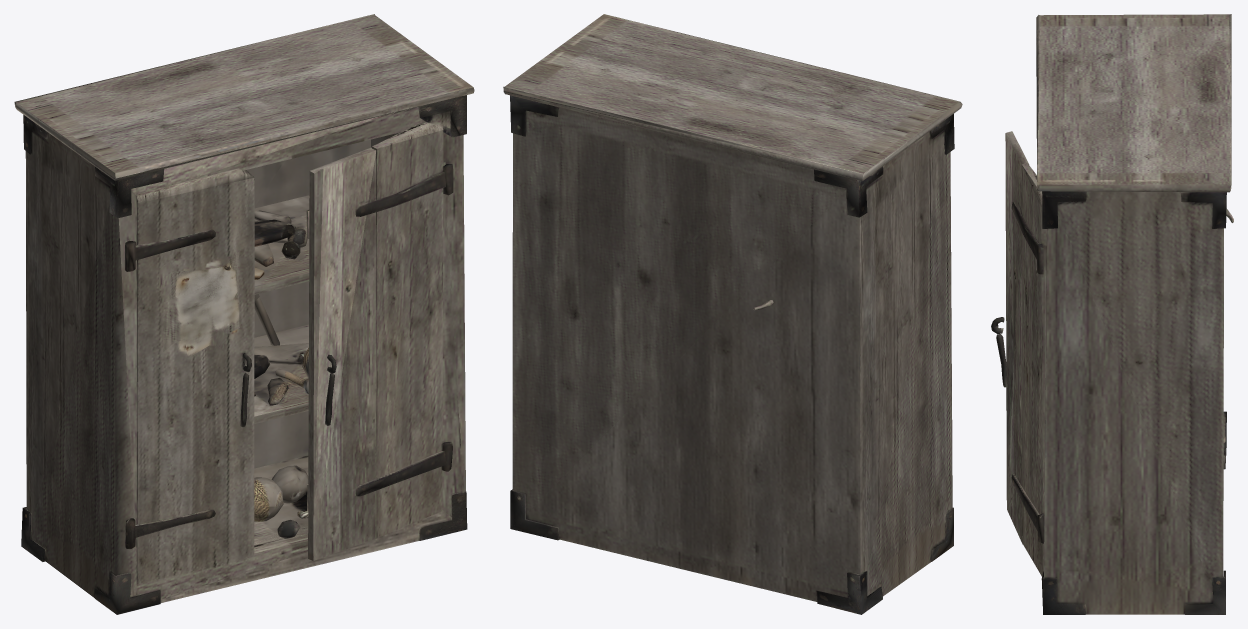
File: hearth.glb
3 renders of one model, left to right at view 1: azimuth 30°, elevation 25°; view 2: azimuth 150°, elevation 25°; view 3: azimuth 270°, elevation 25°, orthographic. The views are drawn at different scales.
Parts seen in each view (by area): view 1: Mesh_0; view 2: Mesh_0; view 3: Mesh_0.
Part boxes in pixels (bbox=[...]): Mesh_0: bbox=[14, 14, 474, 614]; Mesh_0: bbox=[503, 14, 962, 614]; Mesh_0: bbox=[991, 14, 1233, 614].
Bounding box in the file's own units: 0.8516 × 1 × 0.5098.
1 material, 1 textured.
